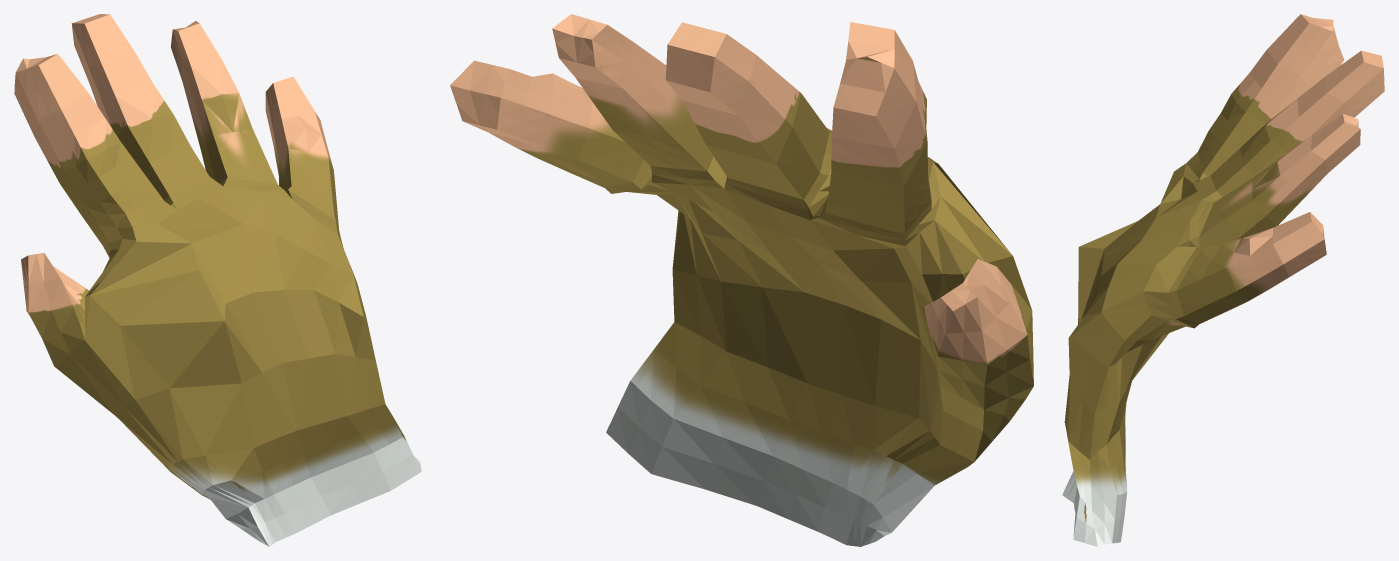
File: flexion0025.obj
3 views of the same model, side by side, from view 1: azimuth 30°, elevation 25°; view 2: azimuth 150°, elevation 25°; view 3: azimuth 270°, elevation 25° (orthographic). The views are drawn at different scales.
Parts seen in each view (by area): view 1: Hand; view 2: Hand; view 3: Hand.
Part boxes in pixels (x1,y1,x2,y2): Hand: (14,14,421,546); Hand: (450,14,1033,546); Hand: (1062,14,1384,546).
Bounding box in the file's own units: 3.27 × 4.09 × 2.76.
